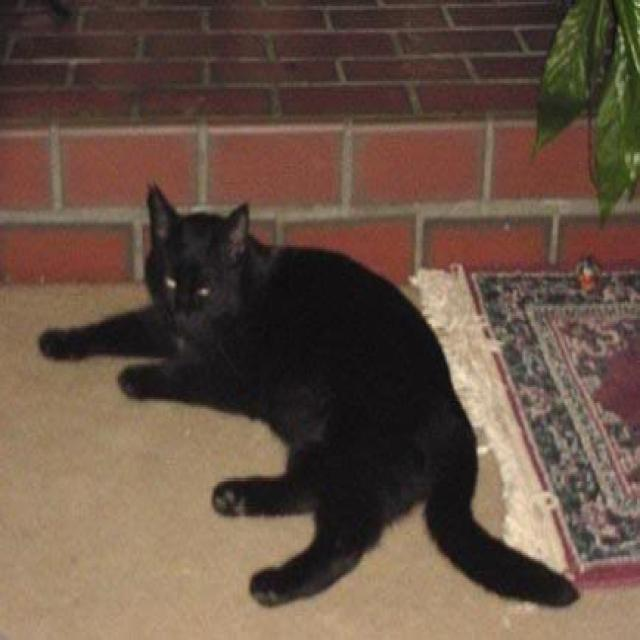Bombay: (139, 174, 257, 364)
